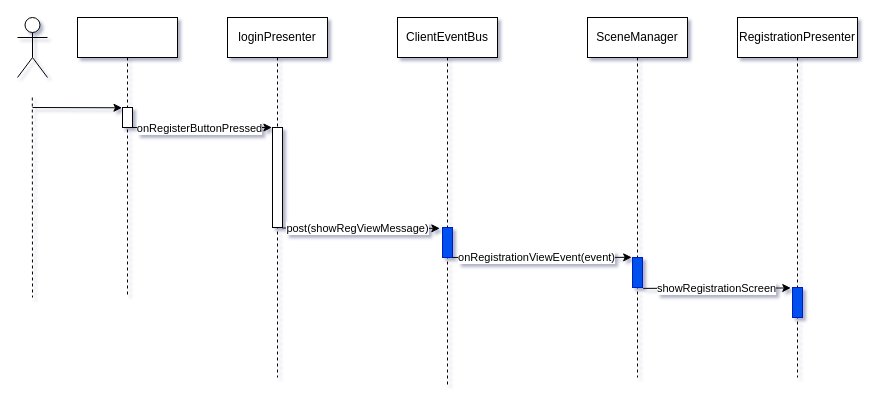
Image size: 881x411. Some labels were removed from this diagram. The shapes that lost their labels are listed below. From the top down, each one's centre as x and y in pixels, then its label:
(x=32, y=47): User
(x=127, y=157): loginView
